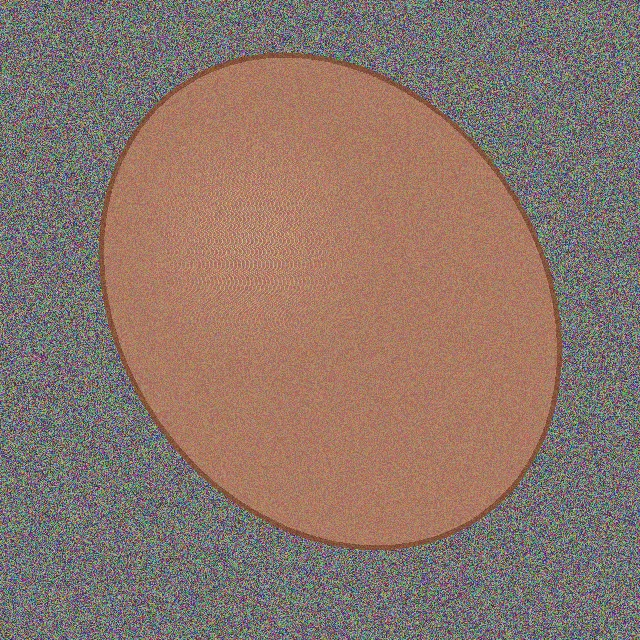lens: (102, 55, 558, 547)
